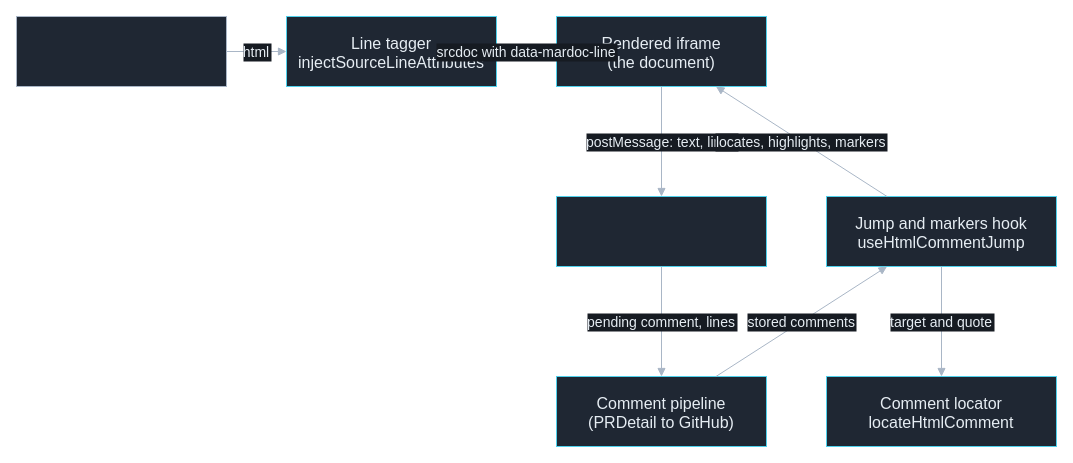
Image size: 1073x463. Some labels were removed from this diagram. The shapes that lost their labels are listed below. From the top down, each one's box as (x1, y1, x2, y2) in pixels, then its label:
(16, 16, 226, 86): HTML source (PR head or base)
(556, 196, 766, 266): Message listener (DiffViewer, HtmlViewer)
